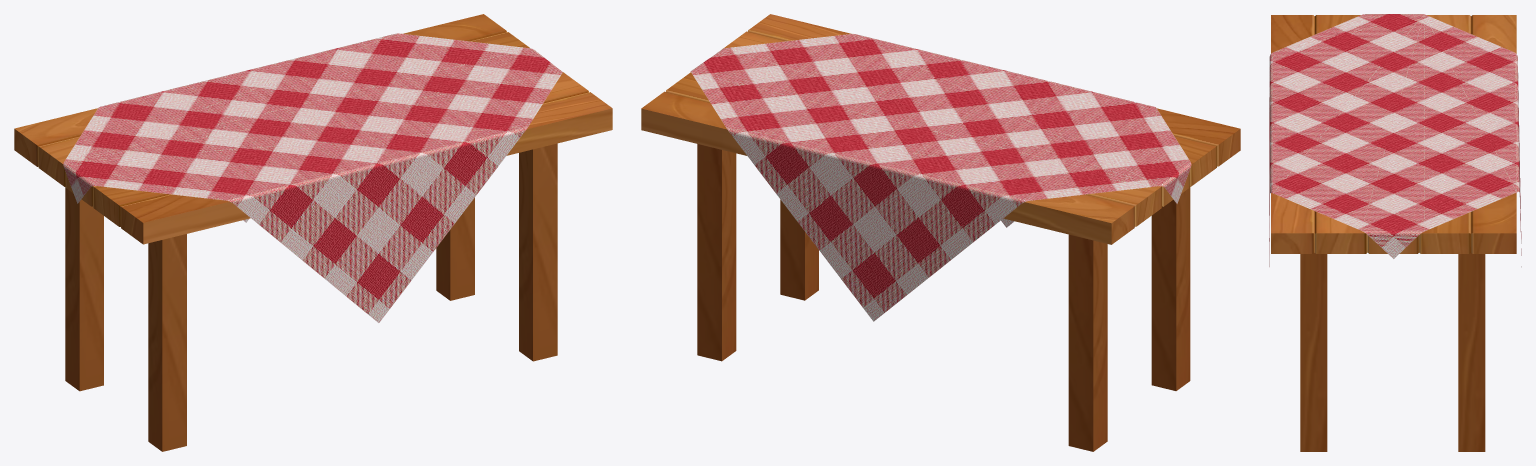
The model's file is Mesa.fbx.
3 renders of one model, left to right at view 1: azimuth 30°, elevation 25°; view 2: azimuth 150°, elevation 25°; view 3: azimuth 270°, elevation 25°, orthographic. The views are drawn at different scales.
Visible parts, largest first — view 1: Tela, Mesa; view 2: Tela, Mesa; view 3: Tela, Mesa.
Part boxes in pixels (x1,y1,x2,y2): Tela: (63,33,562,322); Mesa: (14,14,612,451); Tela: (690,33,1191,321); Mesa: (641,14,1240,451); Tela: (1269,14,1521,267); Mesa: (1271,15,1516,451).
Bounding box in the file's own units: 202 × 102 × 97.91.
